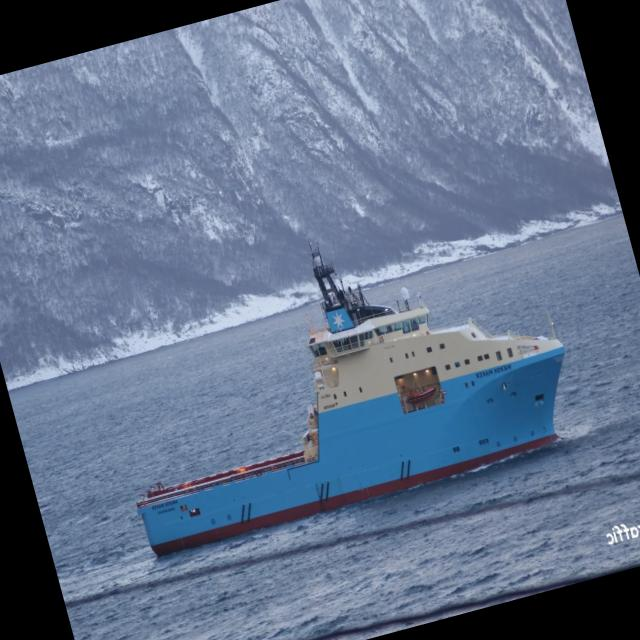Offshore: (137, 244, 564, 555)
